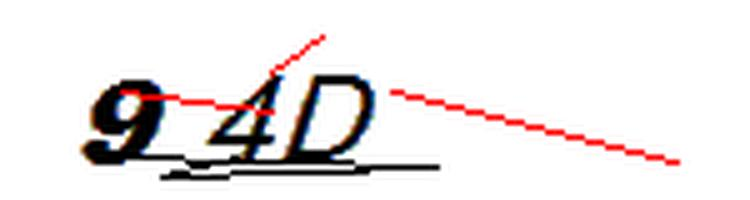4: (201, 66, 286, 172)
9: (74, 73, 168, 175)
D: (280, 68, 376, 168)
